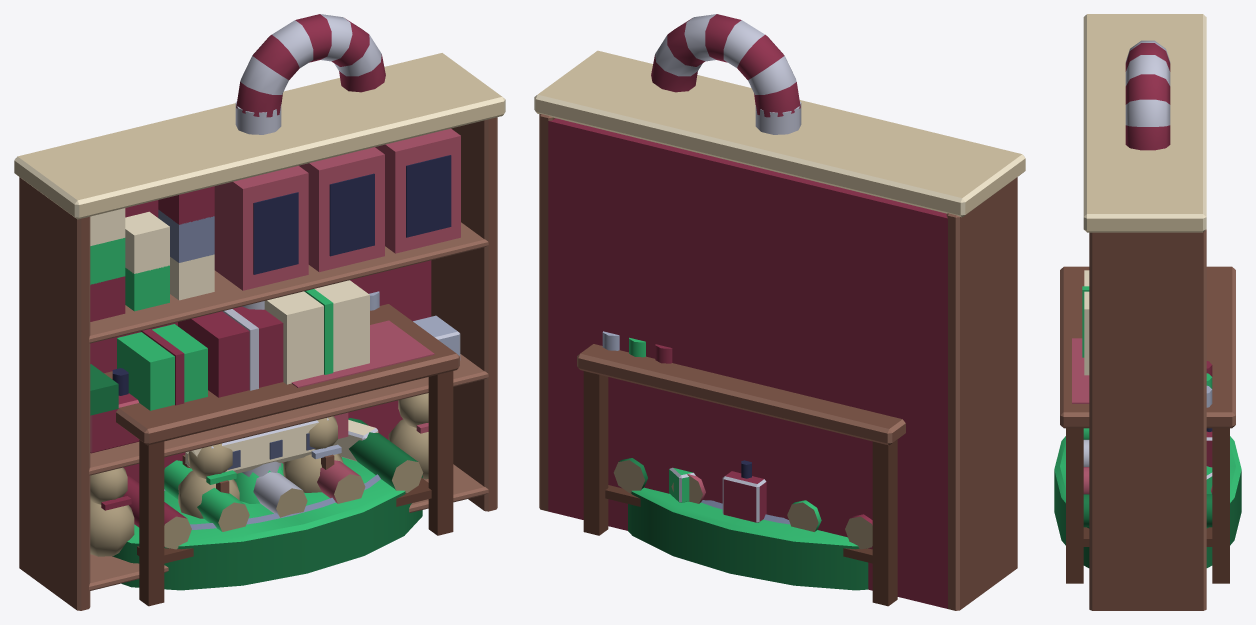
Rendered from Decor_Toy.fbx.
The picture shows the model from 3 angles, left to right: view 1: azimuth 30°, elevation 25°; view 2: azimuth 150°, elevation 25°; view 3: azimuth 270°, elevation 25°; orthographic projection. The views are drawn at different scales.
Visible parts, largest first — view 1: Decor_ToyShelf_8, Decor_GiftWrap_6, Decor_TrainLoop_6, Decor_CandyCane_Giant, Decor_RockingHorse; view 2: Decor_ToyShelf_8, Decor_GiftWrap_6, Decor_TrainLoop_6, Decor_CandyCane_Giant; view 3: Decor_ToyShelf_8, Decor_GiftWrap_6, Decor_CandyCane_Giant, Decor_TrainLoop_6.
Part boxes in pixels (bbox=[...]): Decor_ToyShelf_8: bbox=[14, 53, 505, 610]; Decor_GiftWrap_6: bbox=[104, 280, 459, 606]; Decor_TrainLoop_6: bbox=[112, 420, 422, 590]; Decor_CandyCane_Giant: bbox=[235, 14, 385, 476]; Decor_RockingHorse: bbox=[182, 412, 348, 493]; Decor_ToyShelf_8: bbox=[534, 50, 1025, 610]; Decor_GiftWrap_6: bbox=[577, 331, 905, 606]; Decor_TrainLoop_6: bbox=[628, 460, 868, 590]; Decor_CandyCane_Giant: bbox=[651, 14, 801, 134]; Decor_ToyShelf_8: bbox=[1083, 14, 1206, 610]; Decor_GiftWrap_6: bbox=[1060, 266, 1235, 583]; Decor_CandyCane_Giant: bbox=[1125, 40, 1170, 150]; Decor_TrainLoop_6: bbox=[1054, 428, 1241, 567].
Size of the model in its own units: 8.2 by 9.28 by 3.2.
1 material, 1 textured.
